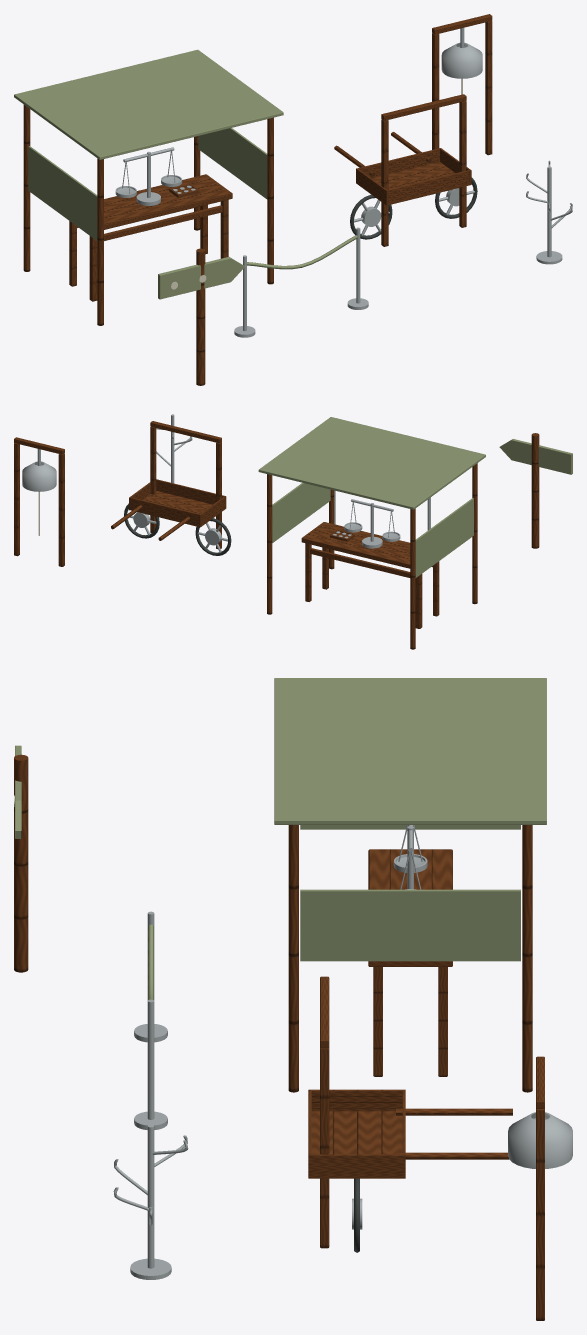
The picture shows the model from 3 angles, top to bottom: view 1: azimuth 30°, elevation 25°; view 2: azimuth 150°, elevation 25°; view 3: azimuth 270°, elevation 25°; orthographic projection. The views are drawn at different scales.
Visible parts, largest first — view 1: 000-canopy-market-booth/1, 000-canopy-market-booth/0, 003-merchant-display-cart/0, 007-settlement-bell/0, 006-roadside-trade-marker/1, 007-settlement-bell/1, 006-roadside-trade-marker/0, 005-queue-barrier/0, 001-balance-scale/0, 004-wire-display-tree/0, 003-merchant-display-cart/2, 003-merchant-display-cart/1 (+1 smaller); view 2: 000-canopy-market-booth/1, 000-canopy-market-booth/0, 003-merchant-display-cart/0, 007-settlement-bell/0, 006-roadside-trade-marker/1, 006-roadside-trade-marker/0, 007-settlement-bell/1, 001-balance-scale/0, 003-merchant-display-cart/2, 003-merchant-display-cart/1, 004-wire-display-tree/0; view 3: 000-canopy-market-booth/1, 003-merchant-display-cart/0, 000-canopy-market-booth/0, 006-roadside-trade-marker/0, 007-settlement-bell/1, 004-wire-display-tree/0, 007-settlement-bell/0, 005-queue-barrier/0, 001-balance-scale/0.
Part boxes in pixels (box(x1,y1,x2,y2)): 000-canopy-market-booth/1: box(14, 49, 283, 240); 000-canopy-market-booth/0: box(23, 104, 273, 325); 003-merchant-display-cart/0: box(334, 94, 471, 246); 007-settlement-bell/0: box(432, 14, 492, 155); 006-roadside-trade-marker/1: box(158, 257, 245, 299); 007-settlement-bell/1: box(441, 27, 482, 78); 006-roadside-trade-marker/0: box(196, 248, 205, 385); 005-queue-barrier/0: box(234, 227, 368, 337); 001-balance-scale/0: box(115, 151, 182, 205); 004-wire-display-tree/0: box(526, 160, 572, 264); 003-merchant-display-cart/2: box(353, 188, 474, 235); 003-merchant-display-cart/1: box(350, 177, 477, 239); 000-canopy-market-booth/1: box(258, 417, 485, 577); 000-canopy-market-booth/0: box(267, 463, 477, 649); 003-merchant-display-cart/0: box(111, 421, 226, 548); 007-settlement-bell/0: box(14, 437, 64, 566); 006-roadside-trade-marker/1: box(499, 439, 572, 474); 006-roadside-trade-marker/0: box(531, 433, 539, 548); 007-settlement-bell/1: box(22, 449, 56, 491); 001-balance-scale/0: box(344, 502, 400, 548); 003-merchant-display-cart/2: box(130, 512, 227, 552); 003-merchant-display-cart/1: box(124, 503, 231, 555); 004-wire-display-tree/0: box(156, 414, 192, 483); 000-canopy-market-booth/1: box(274, 678, 546, 961); 003-merchant-display-cart/0: box(308, 976, 512, 1248); 000-canopy-market-booth/0: box(288, 825, 532, 1092); 006-roadside-trade-marker/0: box(14, 754, 28, 972); 007-settlement-bell/1: box(508, 1112, 572, 1168); 004-wire-display-tree/0: box(113, 1124, 188, 1279); 007-settlement-bell/0: box(536, 1056, 544, 1320); 005-queue-barrier/0: box(134, 911, 167, 1129); 001-balance-scale/0: box(393, 825, 427, 889).
Size of the model in its own units: 7.01 by 2.34 by 4.31.
5 materials, 1 textured.
